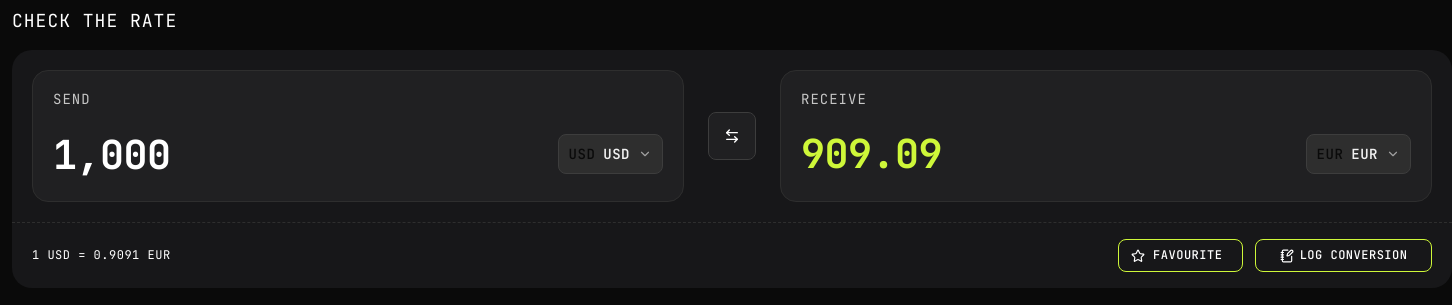
Test: RateChecker › amount and swap interactions › keeps log button disabled when send amount is zero
This screenshot has width=1452, height=305.
Check: the text "909.09" is shown, box [801,127,942,180]
Clear the field named "Send amount" at (297, 154), box [53,128,542,181]
Wait 300 ms
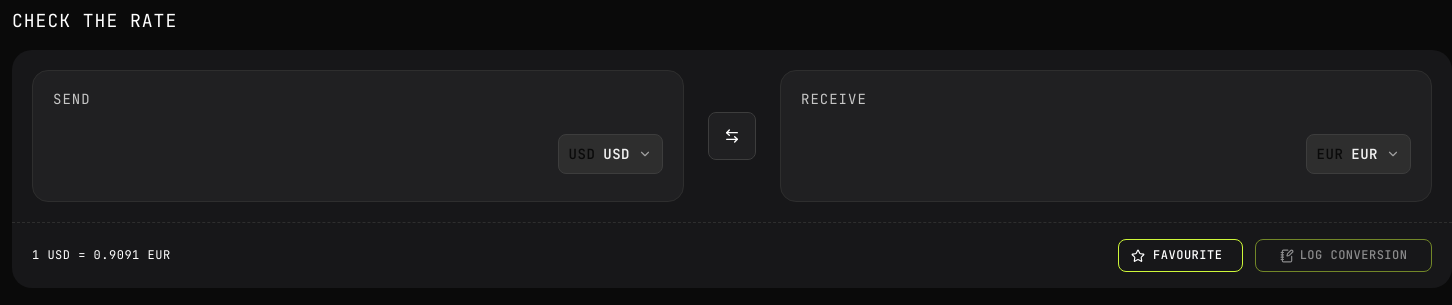
Check: the button "Log conversion" is disabled, box [1255,239,1432,272]
